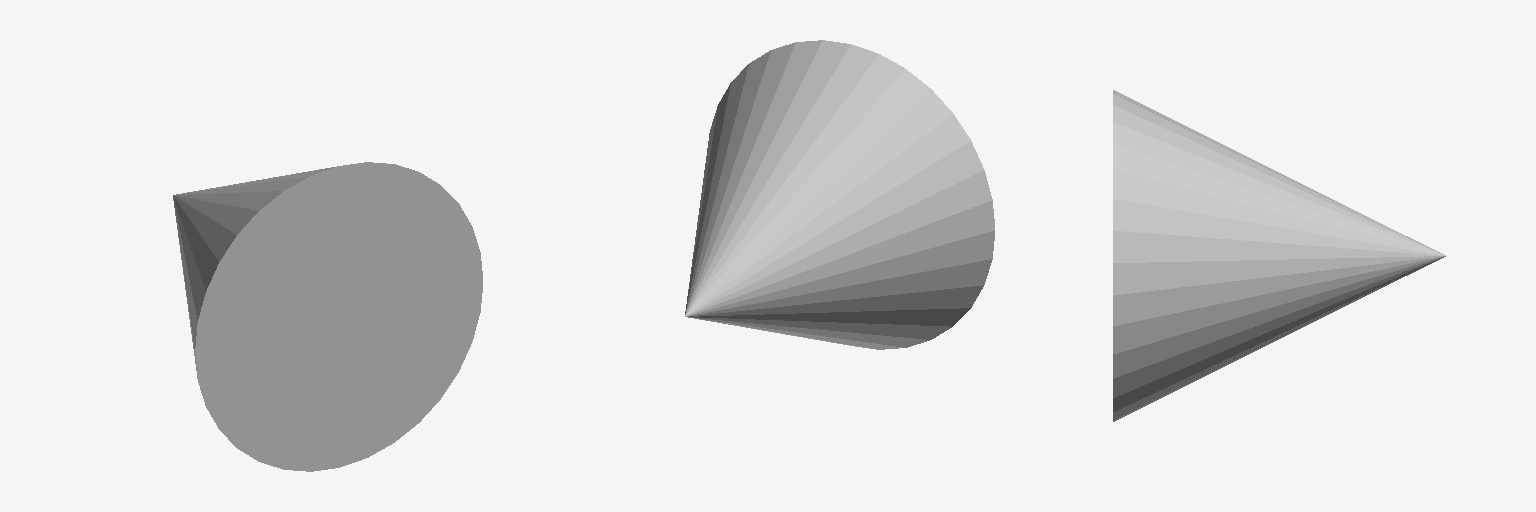
Rendered from dragonCone.obj.
3 views of the same model, side by side, from view 1: azimuth 30°, elevation 25°; view 2: azimuth 150°, elevation 25°; view 3: azimuth 270°, elevation 25° (orthographic).
Visible parts, largest first — view 1: DragonTail; view 2: DragonTail; view 3: DragonTail.
Boxes of the visible parts, x1=… form: DragonTail: x1=173, y1=162, x2=482, y2=471; DragonTail: x1=685, y1=40, x2=994, y2=349; DragonTail: x1=1113, y1=90, x2=1445, y2=421.
Size of the model in its own units: 0.3987 by 0.3987 by 0.3987.